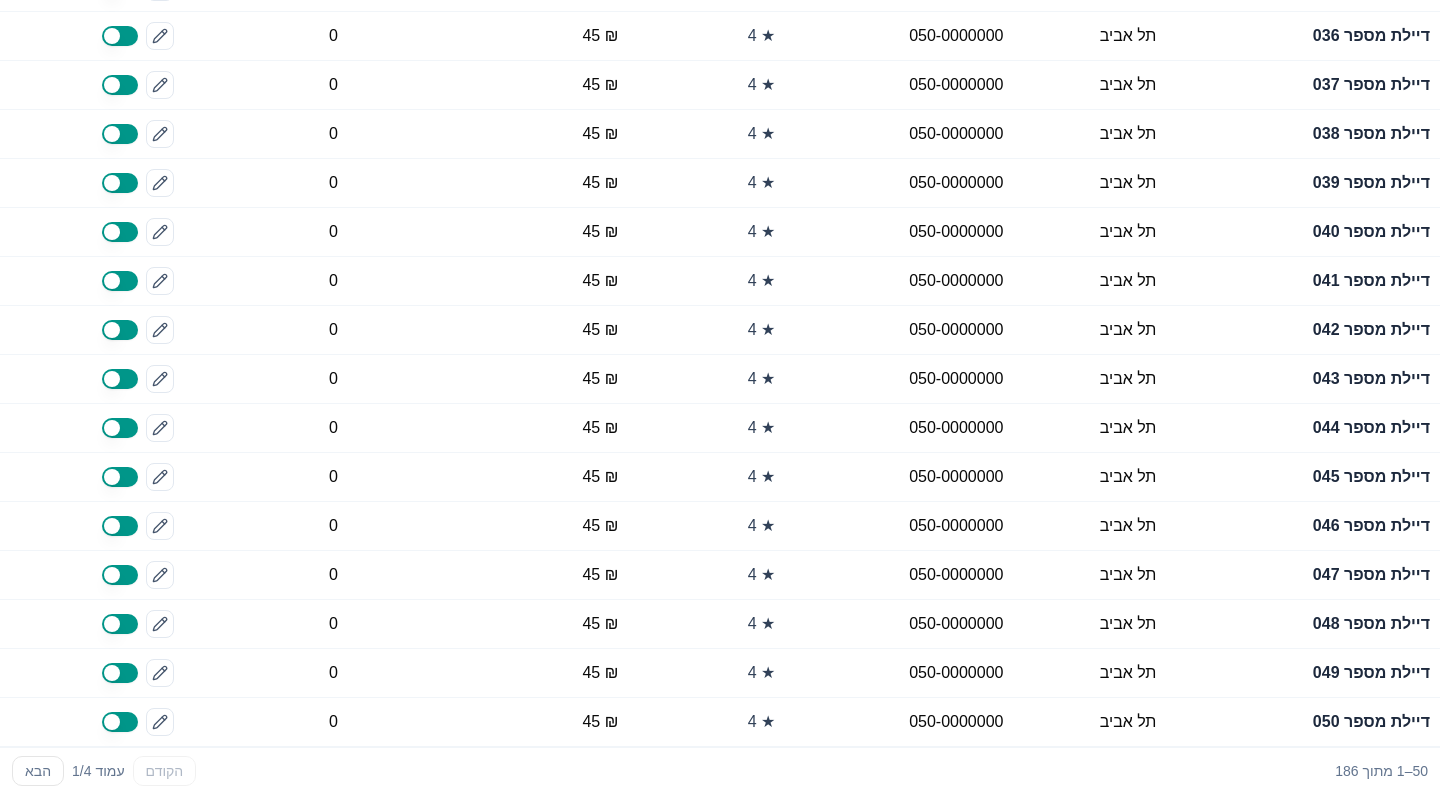
Test case: מאגר-הדיילות — דפדוף (מעבר-האחידות) › 186 דיילות (המספר האמיתי כיום, כולל לא-פעילות) — עמוד ראשון 50, ומעבר-עמוד מציג את השאר
This screenshot has width=1440, height=794.
(page scrolled)
expect the element with test id "list-pager-range" shows "1–50": met, box [1335,761,1428,781]
expect the element with test id "list-pager-range" shows "186": met, box [1335,763,1359,779]
Click the button with test id "list-pager-next": click(38, 771) [12,756,64,786]
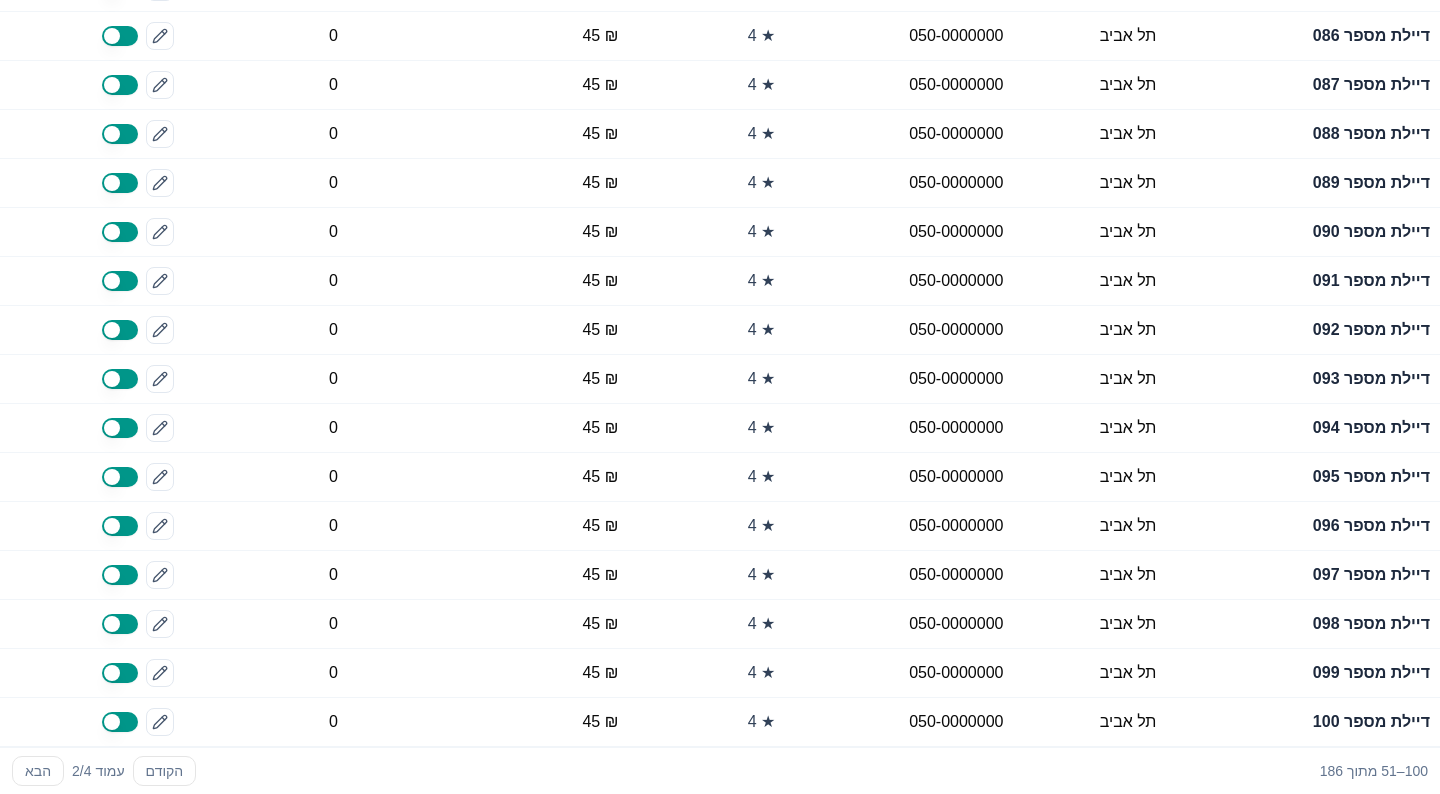
expect the element with test id "list-pager-range" shows "51–100": met, box [1320,761,1428,781]
